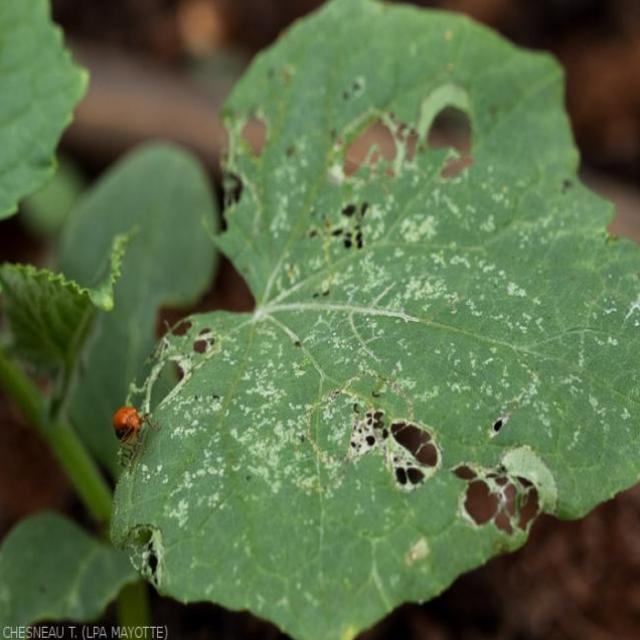Pumpkin Beetle: (300, 99, 530, 203), (327, 396, 461, 500), (470, 459, 560, 538), (111, 404, 163, 469)
